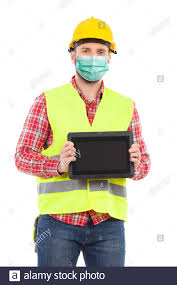Helmet: (68, 17, 121, 51)
Jacket: (39, 88, 136, 224)
Mask: (74, 54, 113, 85)
